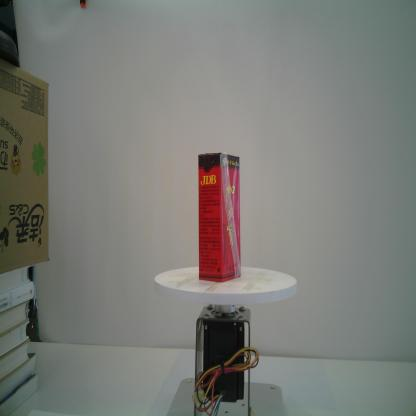Drink: (198, 152, 241, 283)
